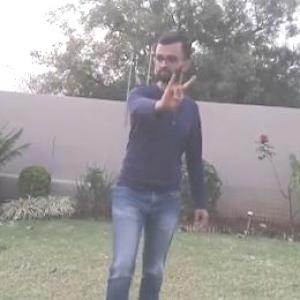takeoff-hand: (152, 68, 202, 114)
